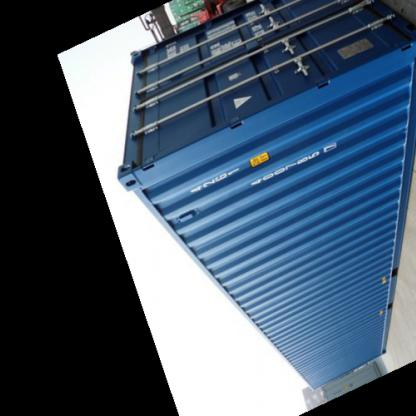Damage: (362, 4, 408, 44), (132, 105, 146, 178)
